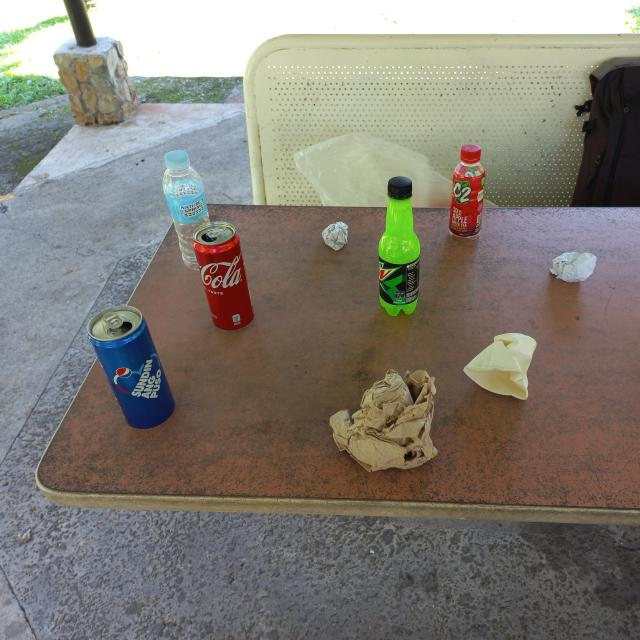Anorganik: (79, 297, 183, 436), (187, 215, 261, 341), (158, 144, 218, 280), (374, 172, 424, 320), (444, 138, 488, 241)
Organik: (319, 359, 452, 482), (457, 324, 547, 411), (544, 246, 604, 289), (318, 217, 354, 256)
